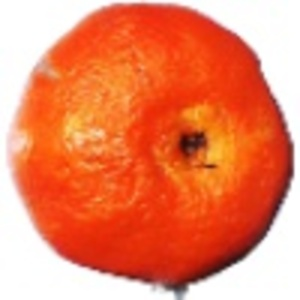tangerina: (6, 2, 296, 300)
